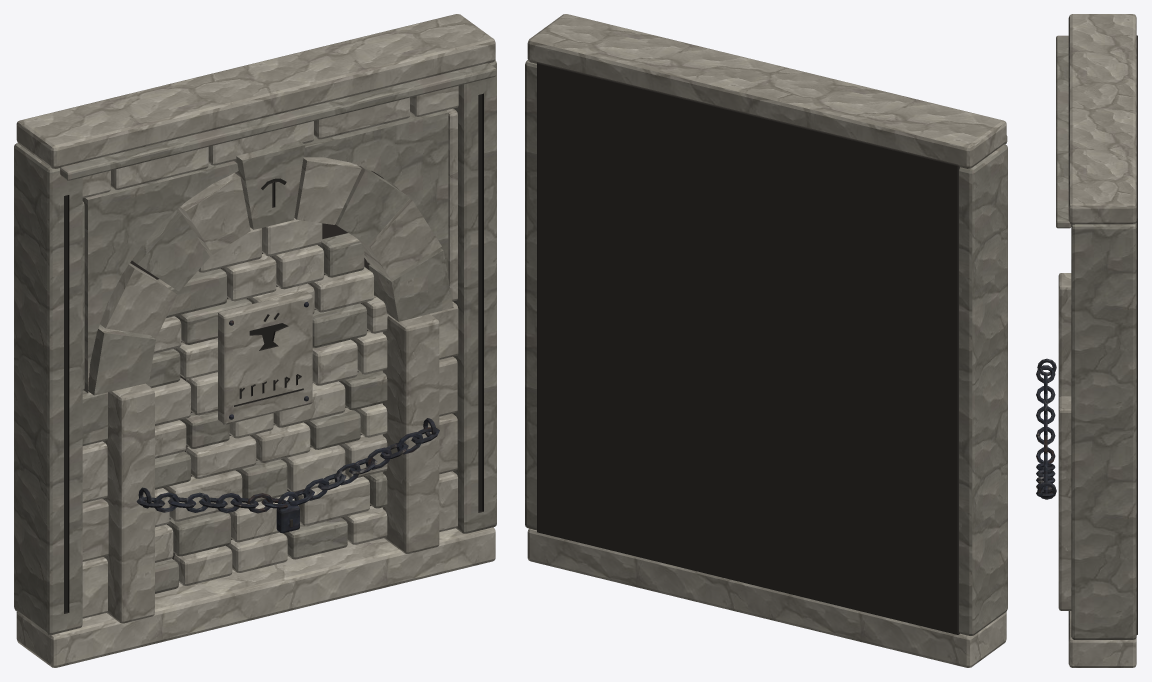
File: qb_sealed_passage.glb
3 views of the same model, side by side, from view 1: azimuth 30°, elevation 25°; view 2: azimuth 150°, elevation 25°; view 3: azimuth 270°, elevation 25° (orthographic). The views are drawn at different scales.
Parts seen in each view (by area): view 1: model; view 2: model; view 3: model.
Boxes of the visible parts, <box> form: model: <box>14,14,496,667</box>; model: <box>525,14,1007,667</box>; model: <box>1036,14,1137,667</box>.
Size of the model in its own units: 1.8 by 2 by 0.398.
6 materials, 4 textured.
